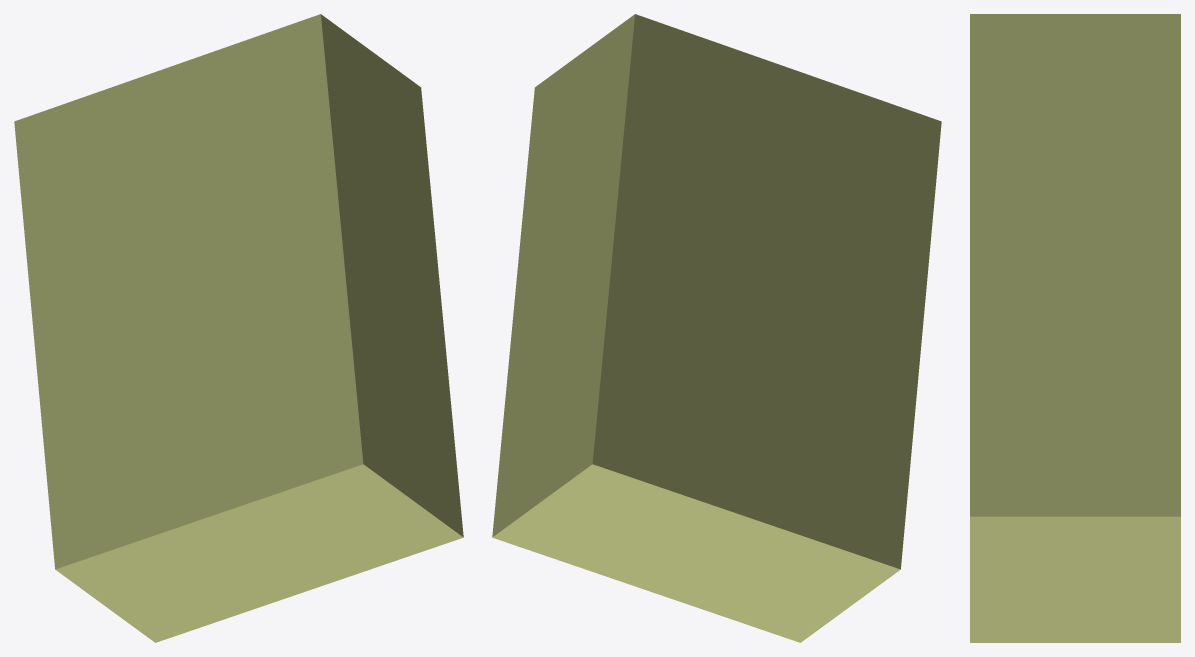
3 renders of one model, left to right at view 1: azimuth 30°, elevation 25°; view 2: azimuth 150°, elevation 25°; view 3: azimuth 270°, elevation 25°, orthographic. The views are drawn at different scales.
Visible parts, largest first — view 1: 0_1_0_0_1_0_2_0_0_1; view 2: 0_1_0_0_1_0_2_0_0_1; view 3: 0_1_0_0_1_0_2_0_0_1.
Boxes of the visible parts, x1,y1,x2,y2 form: 0_1_0_0_1_0_2_0_0_1: (14, 14, 463, 642); 0_1_0_0_1_0_2_0_0_1: (492, 14, 941, 642); 0_1_0_0_1_0_2_0_0_1: (970, 14, 1180, 642).
Bounding box in the file's own units: 12.06 × 16.19 × 6.
